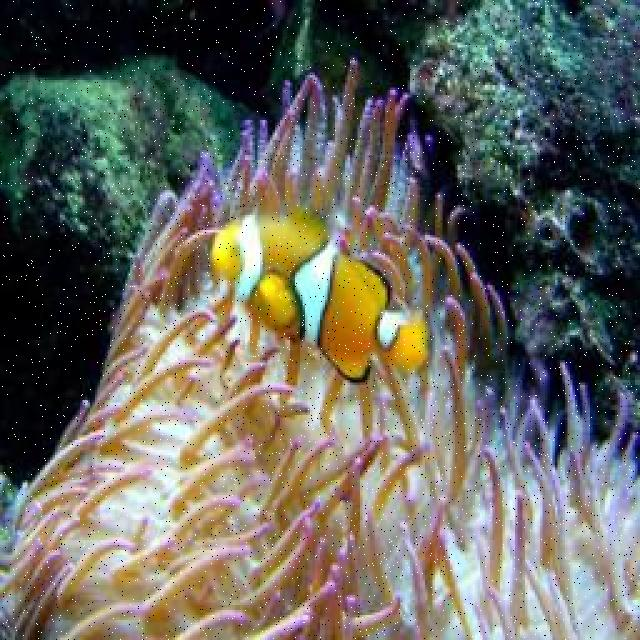fish: (209, 211, 434, 387)
reefs: (0, 60, 638, 638)
